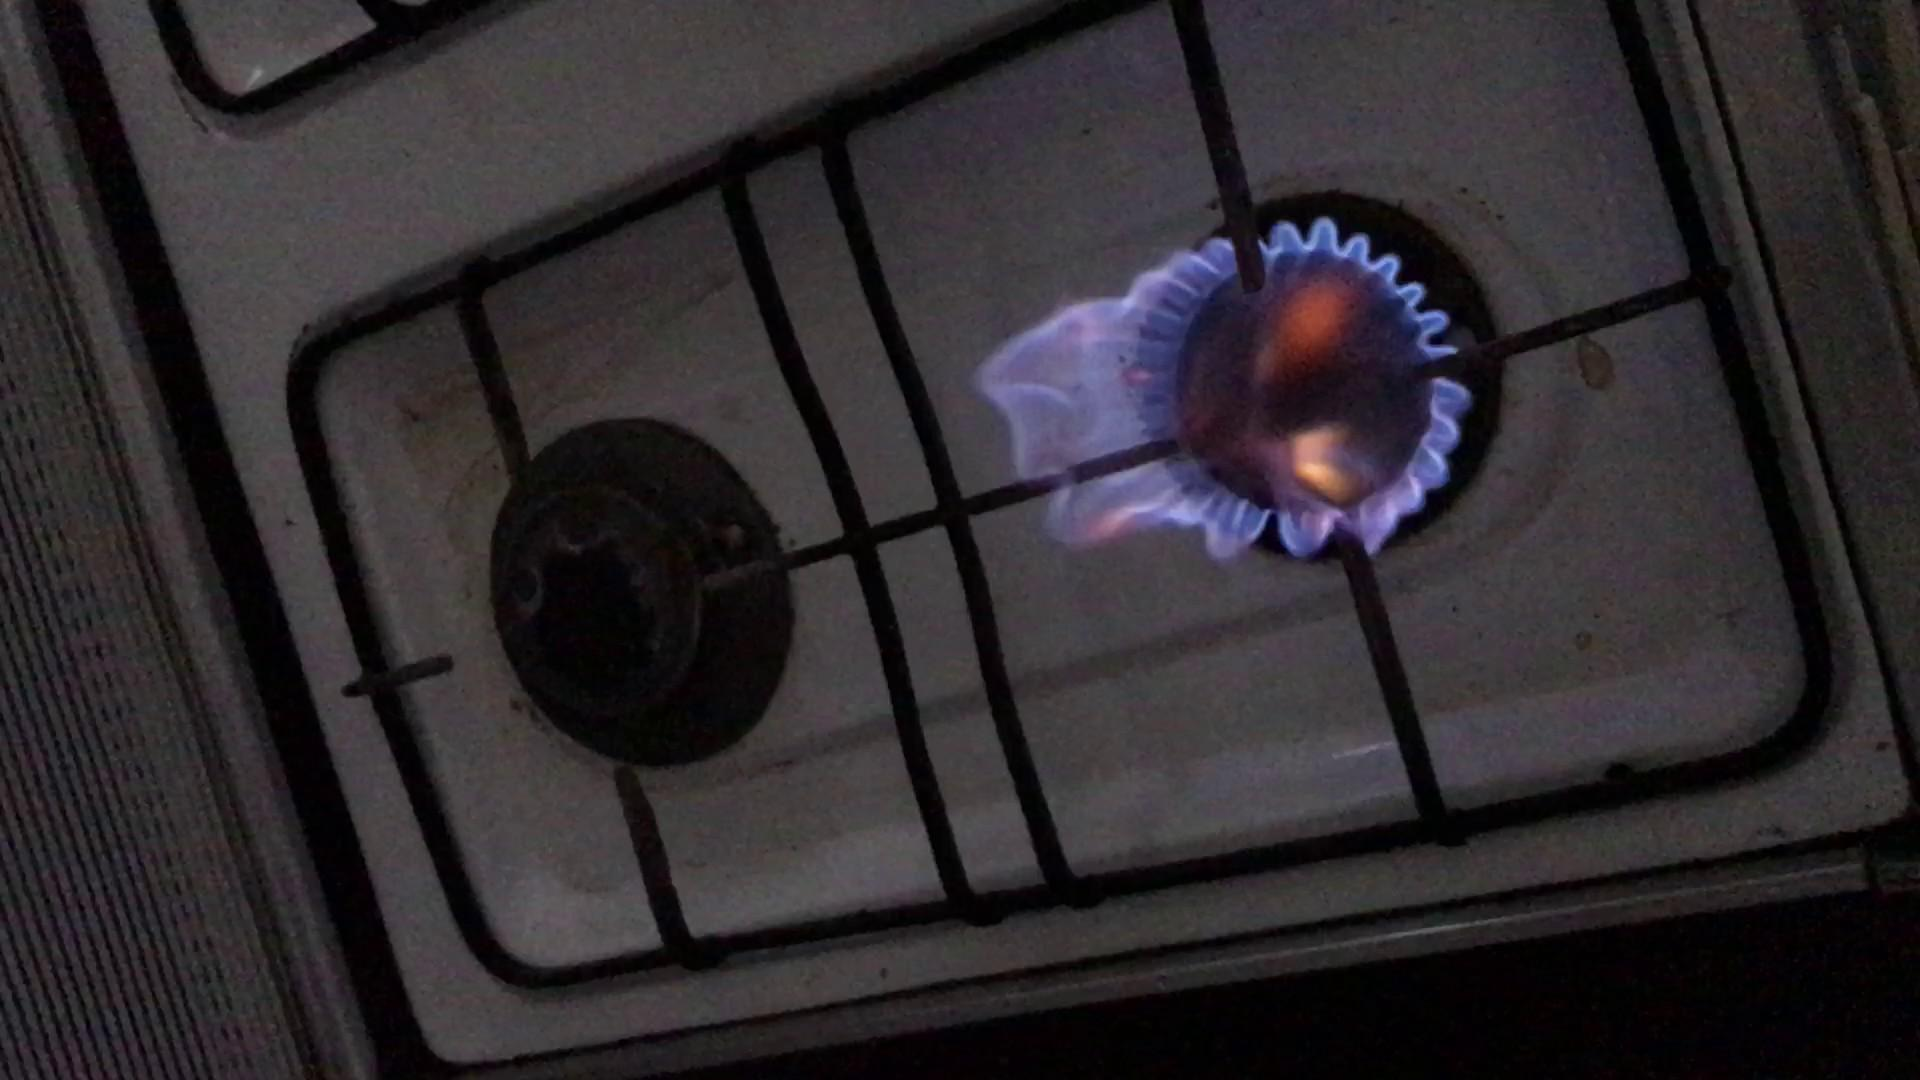fire: (944, 235, 1506, 576)
